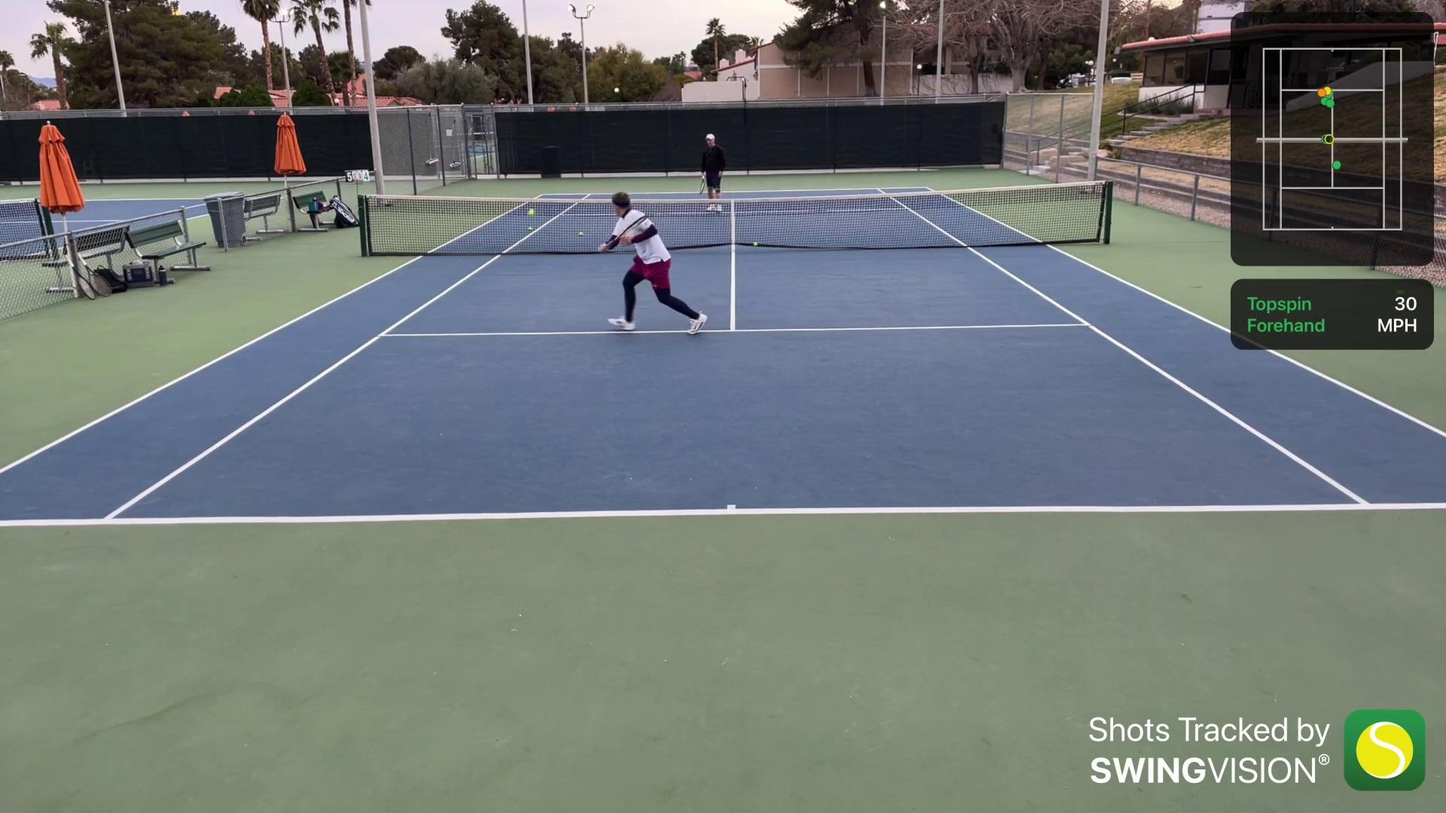ball: (577, 230, 585, 237), (752, 241, 759, 247), (527, 208, 533, 214), (527, 225, 532, 231)
